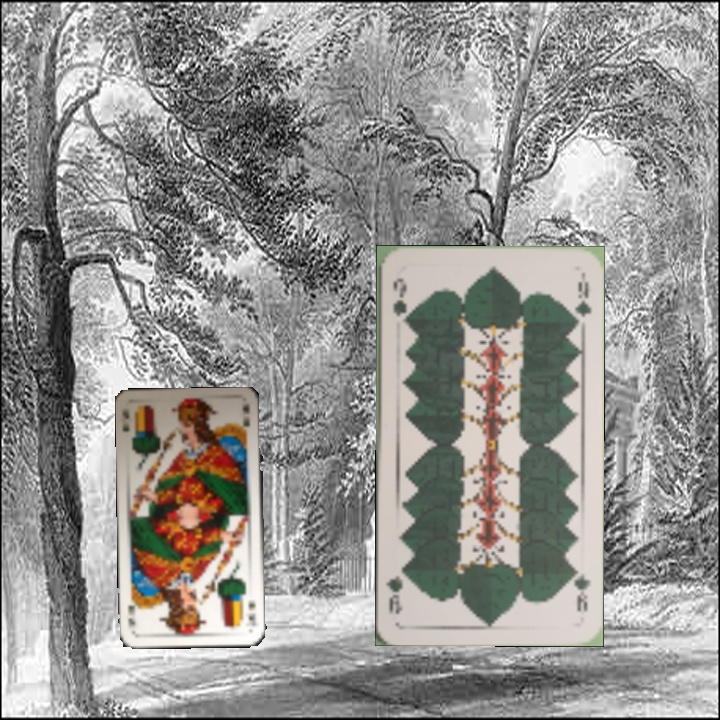EK: (244, 597, 259, 627), (118, 404, 132, 434)
G9: (568, 561, 593, 614), (389, 274, 410, 328)
